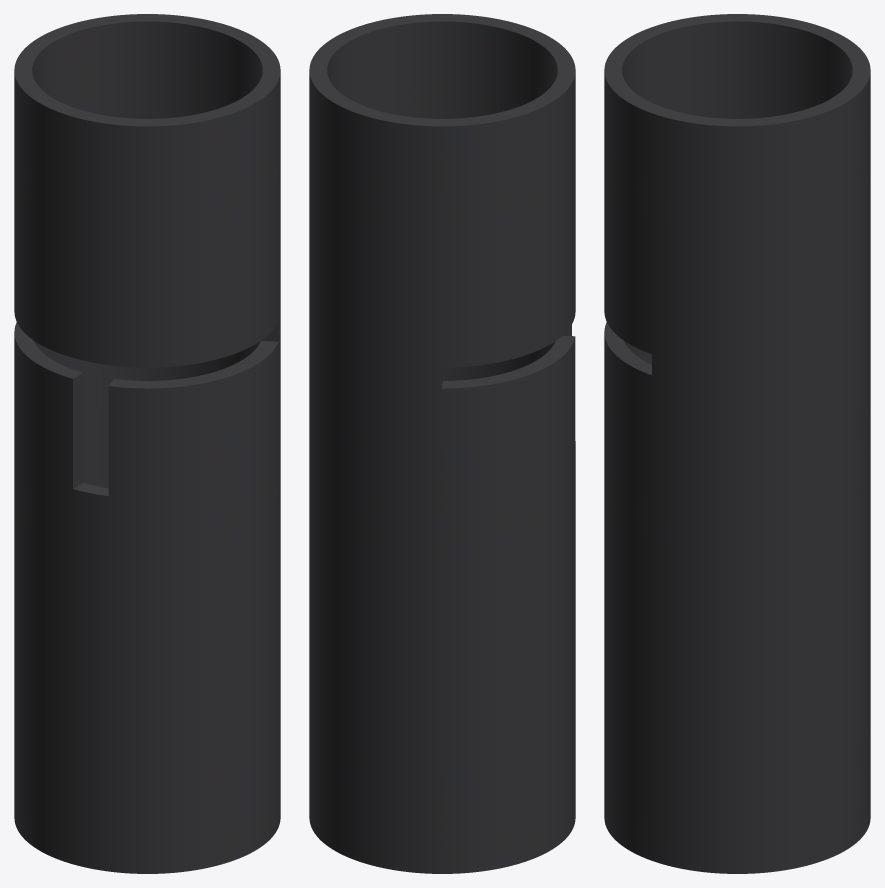
Rendered from 03_dama_cerna.glb.
The picture shows the model from 3 angles, left to right: view 1: azimuth 30°, elevation 25°; view 2: azimuth 150°, elevation 25°; view 3: azimuth 270°, elevation 25°; orthographic projection.
Parts seen in each view (by area): view 1: 03_dama_cerna; view 2: 03_dama_cerna; view 3: 03_dama_cerna.
Part boxes in pixels (left/top/right/bottom): 03_dama_cerna: left=14, top=14, right=280, bottom=873; 03_dama_cerna: left=309, top=14, right=575, bottom=873; 03_dama_cerna: left=604, top=14, right=870, bottom=873.
Size of the model in its own units: 0.03 by 0.093 by 0.03.
1 material, 1 textured.
